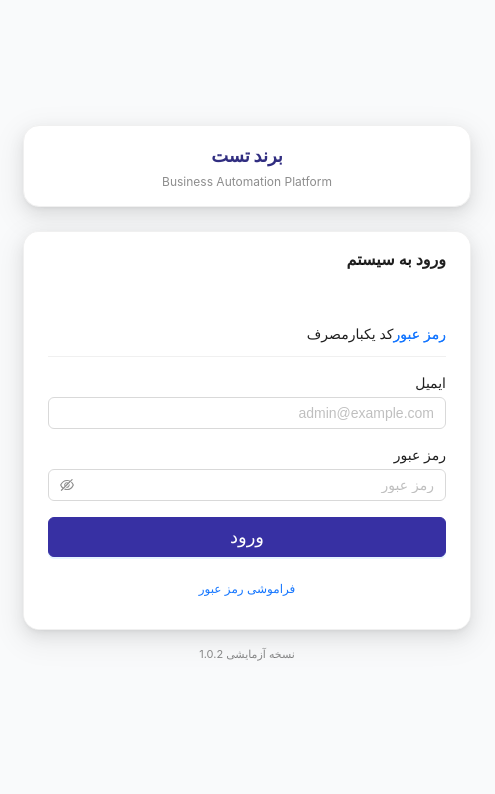
Test: Login OTP and password flows › requests OTP with normalized Iranian mobile and accepted existing phone identity
Click the tab "کد یکبارمصرف" at [350, 334], box [307,323,394,345]
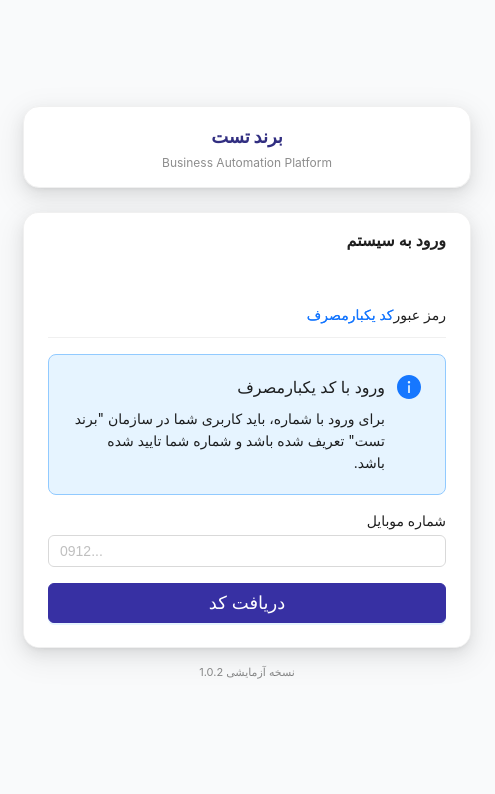
Check: the text "ورود با کد یکبارمصرف" is shown, box [237,377,385,397]
Type "۰۹۱۲۱۲۳۴۵۶۷" into the field with placeholder "0912..." at [247, 551], box [48,535,446,567]
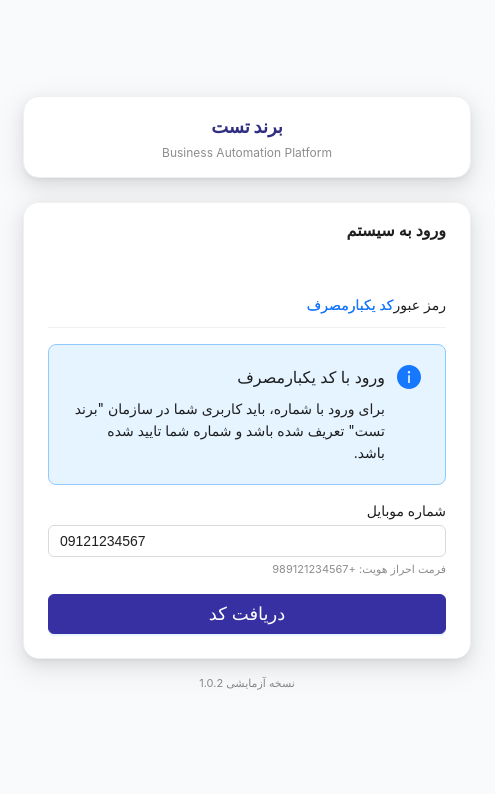
Click the button "دریافت کد" at [247, 614], box [48,594,446,634]
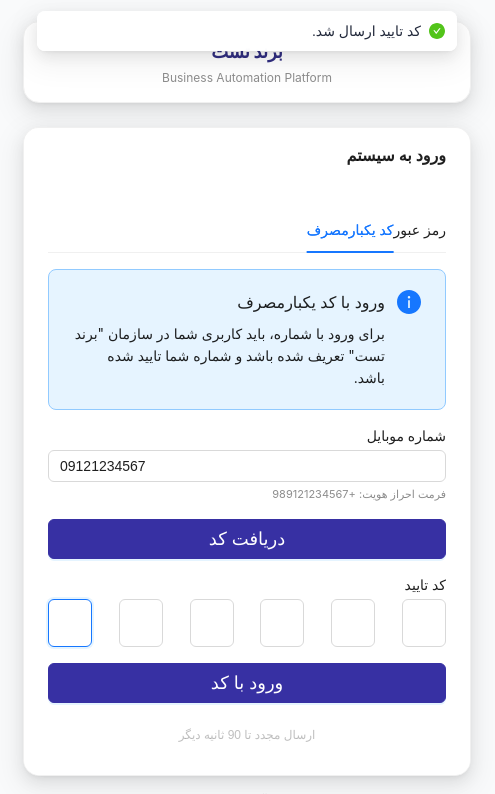
Check: the text "ورود با کد" is shown, box [211,669,283,697]
Check: the text "ارسال مجدد تا 90 ثانیه دیگر" is shown, box [179,727,315,743]
